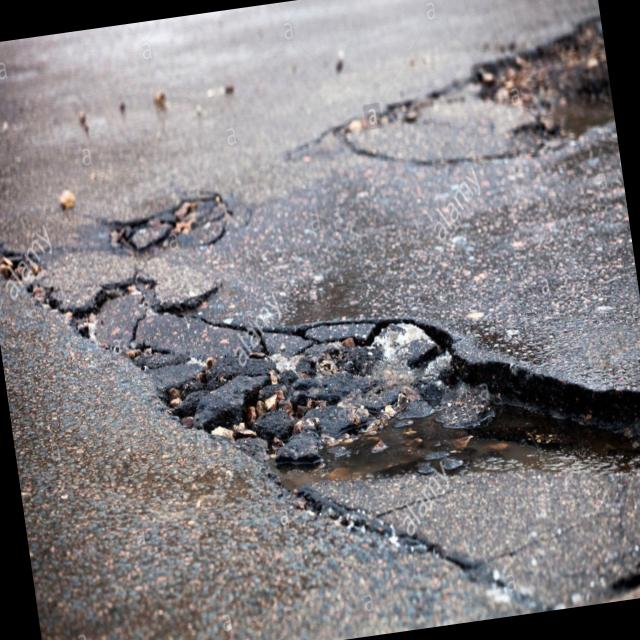Potholes: (82, 194, 640, 640), (418, 0, 615, 148)
